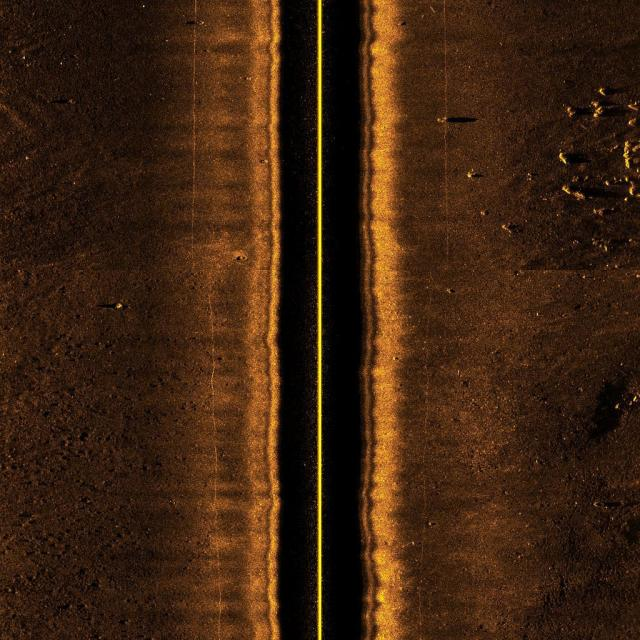other: (238, 251, 253, 267)
